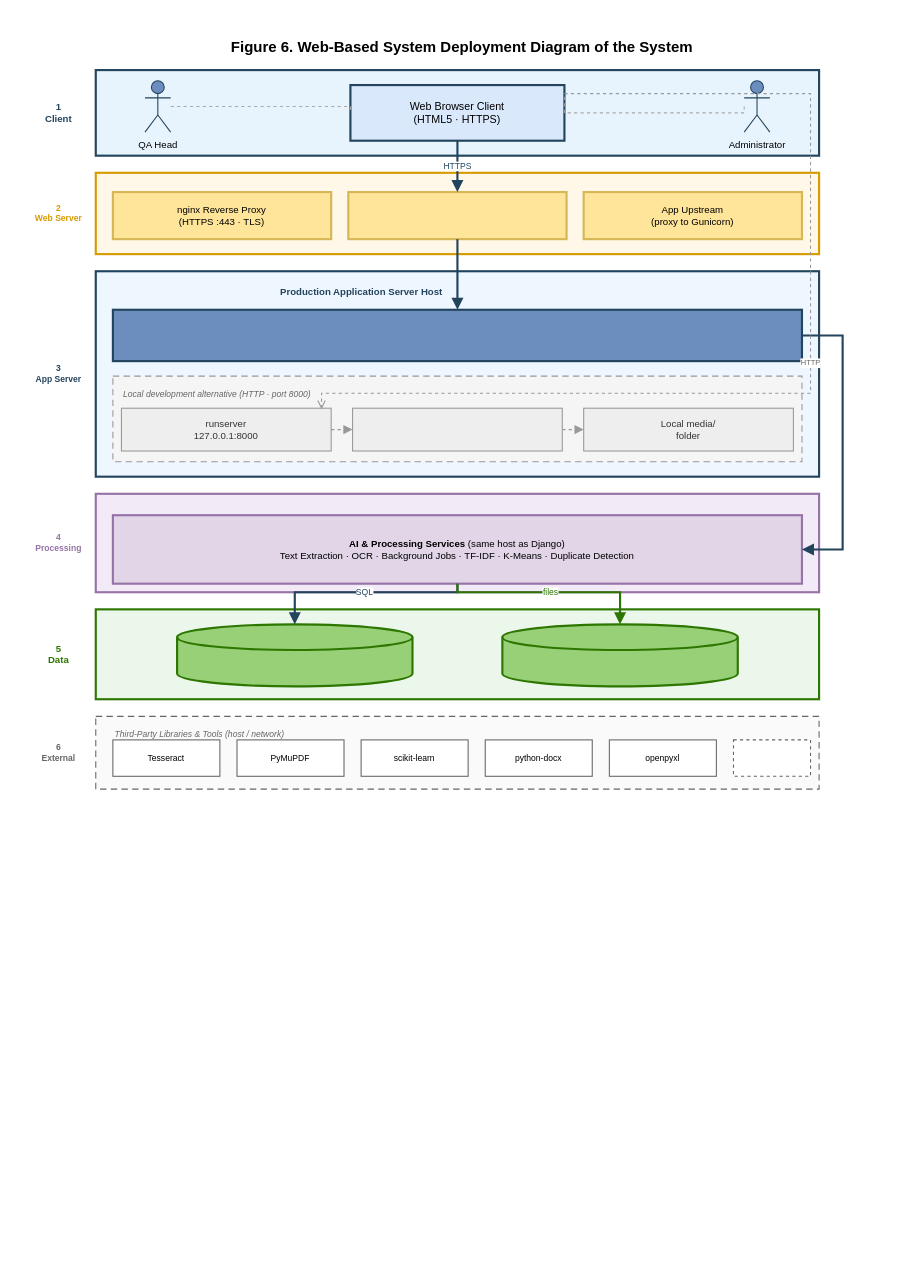
Image size: 921x1287. Some labels were removed from this diagram. Here are the shapes that lost their labels. From the top down, the box of each, then its label:
(347, 190, 567, 240): Static Files (/static/ · collectstatic)
(111, 308, 802, 362): Gunicorn + Django 4.2 WSGI server · Python venv · QA Archiving System
(351, 407, 562, 451): SQLite db.sqlite3
(175, 623, 413, 687): MySQL Database Server PyMySQL · production metadata
(501, 623, 738, 687): Media File Storage /media/uploaded_documents/
(732, 739, 811, 776): Ollama (opt.)
